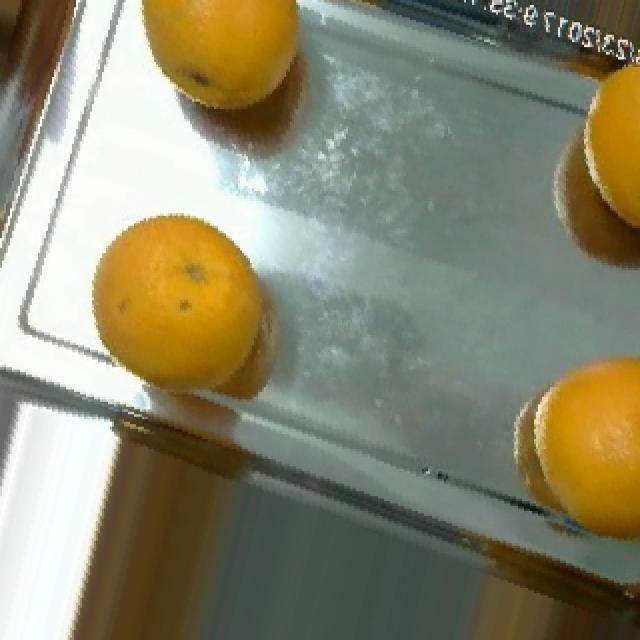Fruit: (116, 0, 320, 146), (562, 47, 640, 243)
